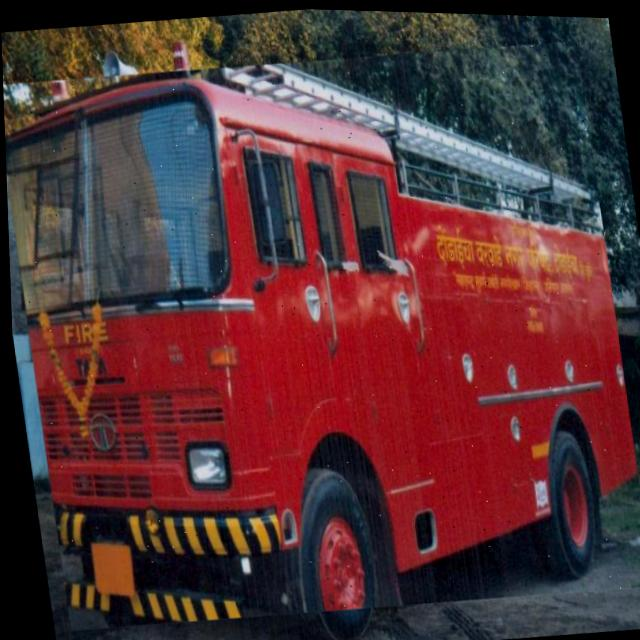Fire Truck: (1, 24, 640, 640)
